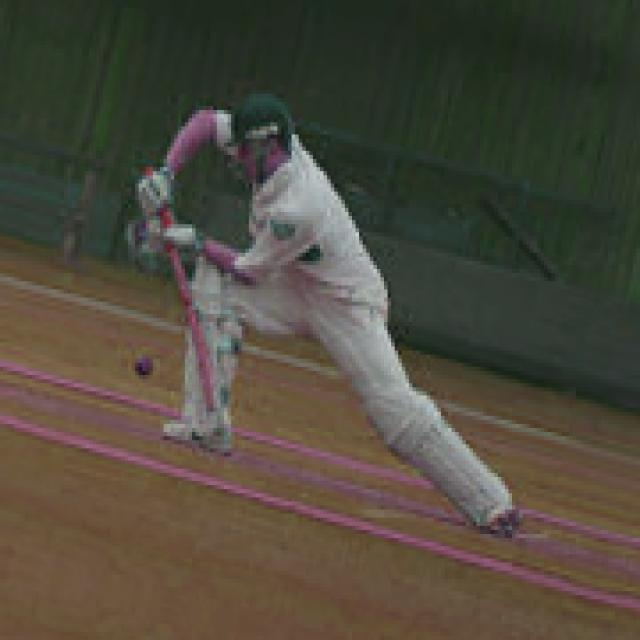toe: (201, 385, 227, 412)
